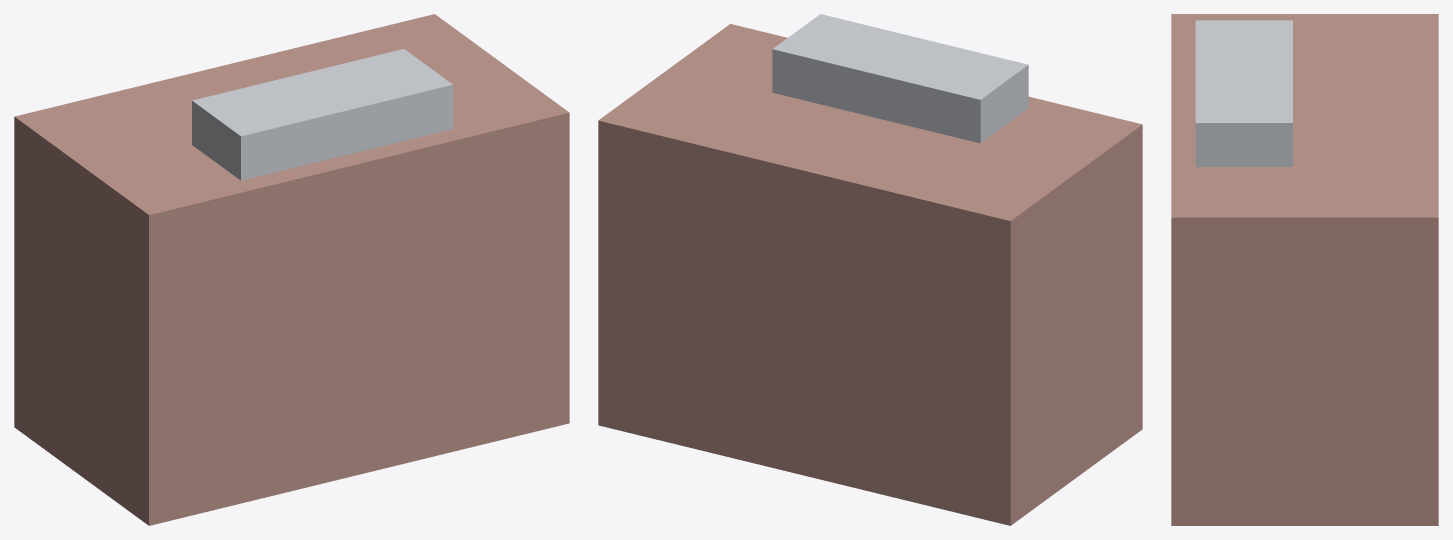
Rendered from prop.glb.
The picture shows the model from 3 angles, left to right: view 1: azimuth 30°, elevation 25°; view 2: azimuth 150°, elevation 25°; view 3: azimuth 270°, elevation 25°; orthographic projection.
Visible parts, largest first — view 1: Cloth, Metal; view 2: Cloth, Metal; view 3: Cloth, Metal.
Boxes of the visible parts, box(x1,y1,x2,y2) form: Cloth: box(14, 14, 569, 525); Metal: box(192, 49, 453, 180); Cloth: box(598, 24, 1142, 525); Metal: box(772, 14, 1028, 143); Cloth: box(1171, 14, 1438, 525); Metal: box(1195, 20, 1292, 166).
Size of the model in its own units: 0.3964 by 0.32 by 0.22.
